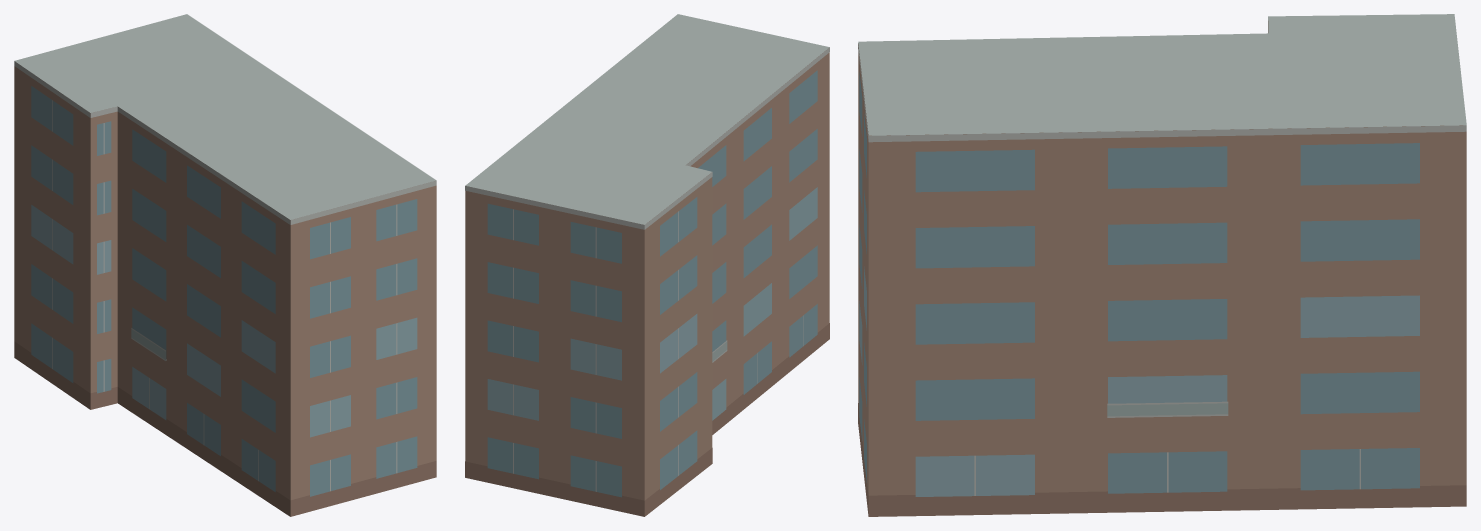
The model's file is survey-upis-32705654.glb.
3 renders of one model, left to right at view 1: azimuth 30°, elevation 25°; view 2: azimuth 150°, elevation 25°; view 3: azimuth 270°, elevation 25°, orthographic. The views are drawn at different scales.
Parts seen in each view (by area): view 1: survey-upis-32705654.tmp; view 2: survey-upis-32705654.tmp; view 3: survey-upis-32705654.tmp.
Part boxes in pixels (x1,y1,x2,y2): survey-upis-32705654.tmp: (14,14,436,516); survey-upis-32705654.tmp: (465,14,829,516); survey-upis-32705654.tmp: (858,14,1466,516).
Size of the model in its own units: 9.88 by 14.4 by 20.85.
